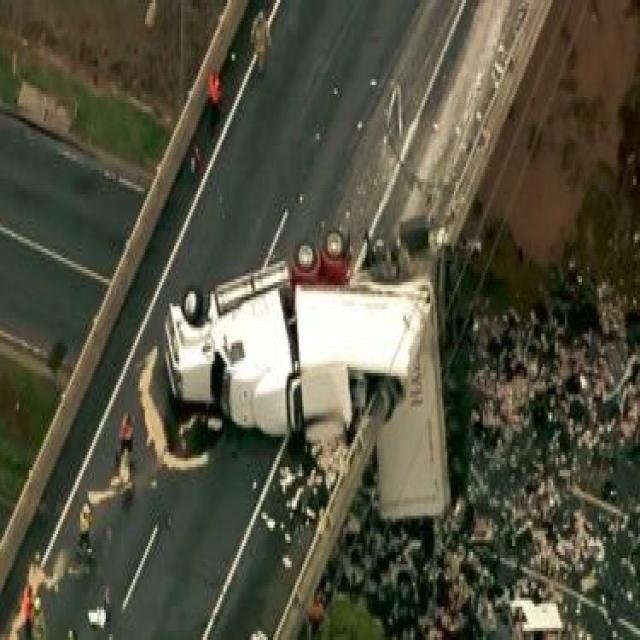traffic_incident: (164, 209, 459, 543)
